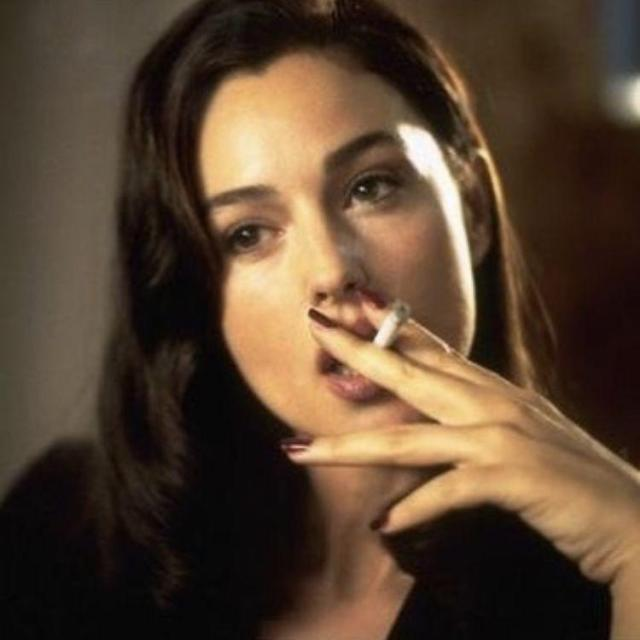cigarette: (334, 281, 437, 386)
